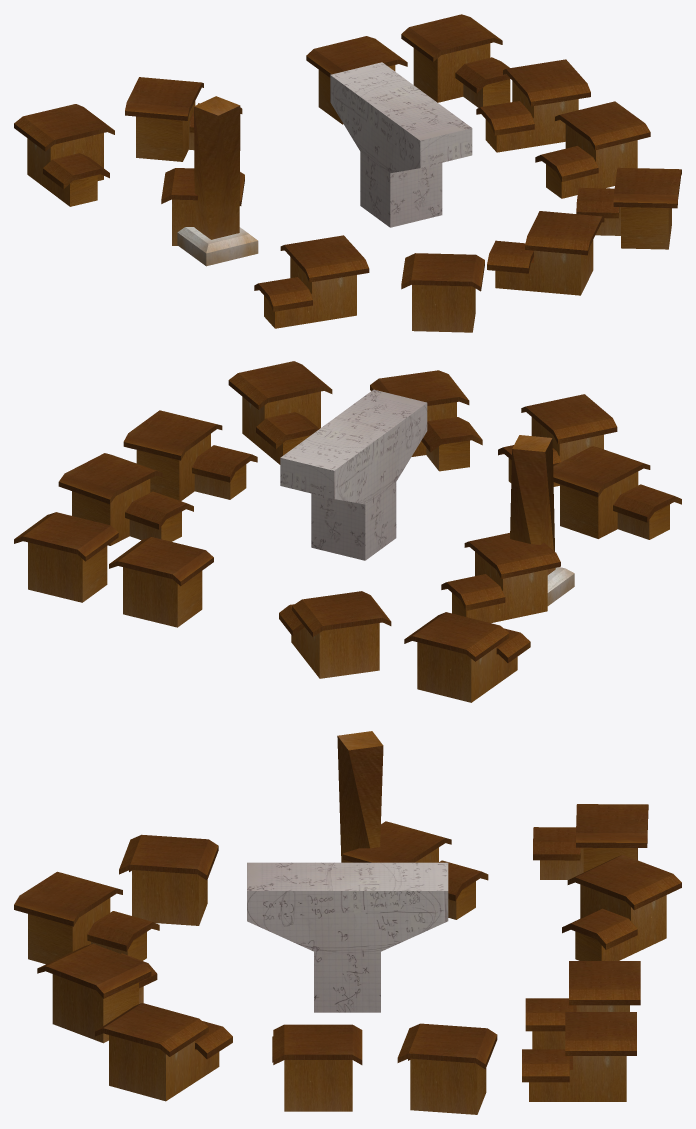
Rendered from level_2.gltf.
3 renders of one model, top to bottom at view 1: azimuth 30°, elevation 25°; view 2: azimuth 150°, elevation 25°; view 3: azimuth 270°, elevation 25°, orthographic. The views are drawn at different scales.
Visible parts, largest first — view 1: Cube, Cube.013, Cube.011, Cube.003, Cube.005, Cube.002, Cube.008, Cube.010, Cube.007, Cube.012, Cube.004, Cube.006 (+1 smaller); view 2: Cube, Cube.003, Cube.008, Cube.002, Cube.010, Cube.001, Cube.004, Cube.007, Cube.006, Cube.011, Cube.013, Cube.005 (+1 smaller); view 3: Cube, Cube.007, Cube.004, Cube.011, Cube.012, Cube.010, Cube.005, Cube.003, Cube.008, Cube.002, Cube.006, Cube.013 (+1 smaller).
Part boxes in pixels (x1,y1,x2,y2): Cube: (330, 62, 472, 227); Cube.013: (177, 96, 258, 266); Cube.011: (401, 14, 510, 107); Cube.003: (254, 235, 369, 328); Cube.005: (487, 211, 604, 295); Cube.002: (14, 104, 114, 206); Cube.008: (535, 101, 650, 198); Cube.010: (476, 59, 590, 152); Cube.007: (576, 167, 681, 249); Cube.012: (401, 253, 484, 332); Cube.004: (125, 77, 242, 161); Cube.006: (306, 36, 407, 124); Cube: (280, 389, 427, 560); Cube.003: (553, 446, 681, 539); Cube.008: (123, 410, 257, 500); Cube.002: (404, 612, 530, 702); Cube.010: (58, 453, 193, 545); Cube.001: (441, 533, 560, 622); Cube.004: (279, 591, 391, 678); Cube.007: (228, 361, 332, 464); Cube.006: (109, 537, 213, 627); Cube.011: (14, 512, 118, 602); Cube.013: (510, 435, 574, 605); Cube.005: (370, 370, 482, 471); Cube: (247, 862, 448, 1012); Cube.007: (95, 1003, 232, 1101); Cube.004: (562, 855, 681, 960); Cube.011: (522, 1012, 636, 1101); Cube.012: (14, 871, 159, 964); Cube.010: (397, 1023, 497, 1114); Cube.005: (37, 943, 157, 1043); Cube.003: (119, 834, 218, 925); Cube.008: (272, 1024, 362, 1111); Cube.002: (533, 804, 648, 879); Cube.006: (525, 961, 640, 1049); Cube.013: (337, 731, 383, 862).
Bounding box in the file's own units: 18.35 × 5.28 × 19.92.
13 materials, 13 textured.
